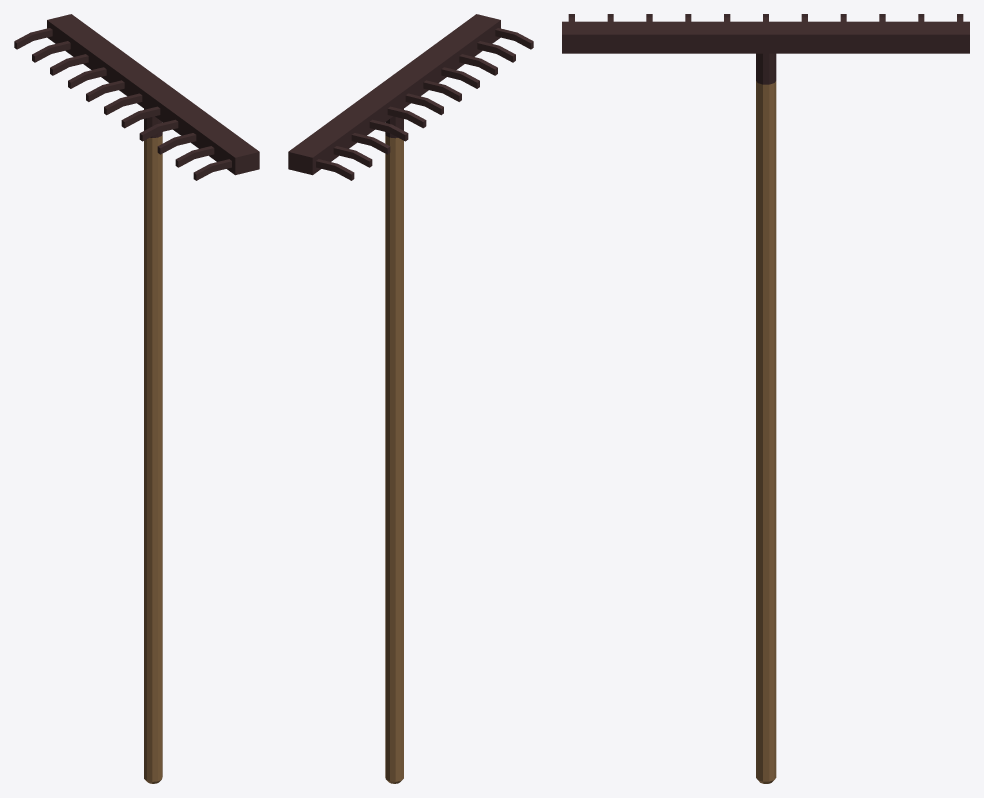
Rendered from Rake.fbx.
3 renders of one model, left to right at view 1: azimuth 30°, elevation 25°; view 2: azimuth 150°, elevation 25°; view 3: azimuth 270°, elevation 25°, orthographic. The views are drawn at different scales.
Visible parts, largest first — view 1: Cylinder; view 2: Cylinder; view 3: Cylinder.
Part boxes in pixels (bbox=[...]): Cylinder: bbox=[14, 14, 259, 783]; Cylinder: bbox=[288, 14, 533, 783]; Cylinder: bbox=[562, 14, 969, 783].
Bounding box in the file's own units: 14.73 × 162 × 79.53.
